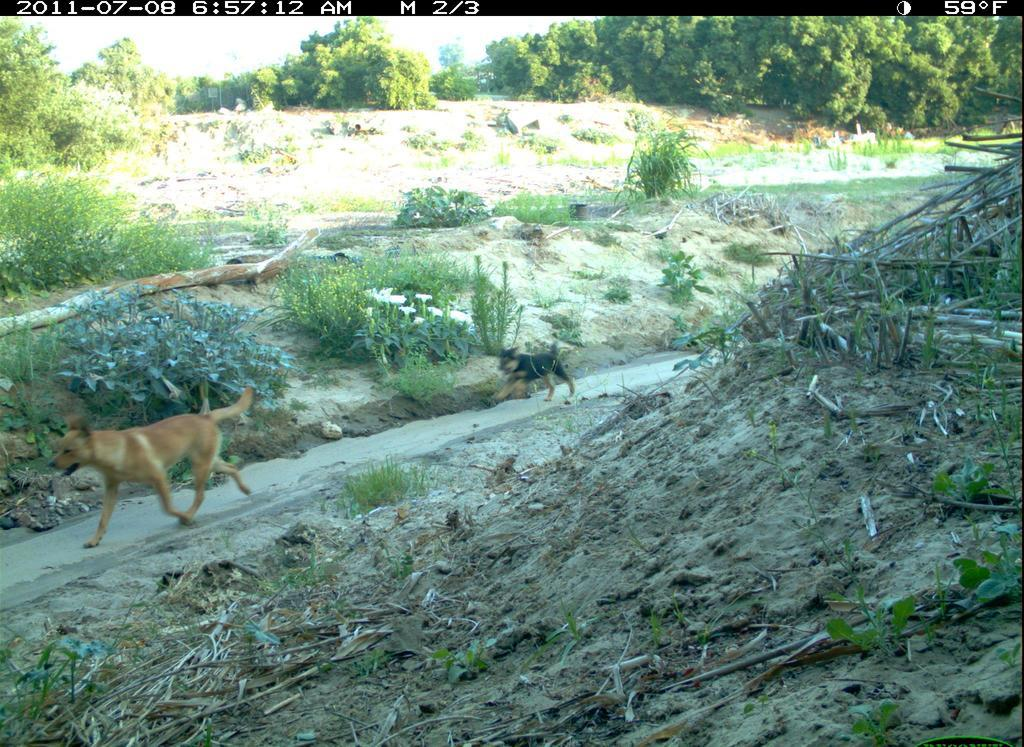dog: (48, 390, 286, 547), (483, 336, 582, 410)
